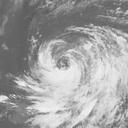cyclone: (28, 37, 98, 100)
